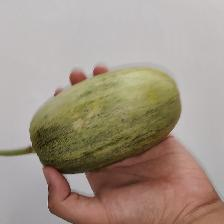gua: (41, 74, 159, 160)
